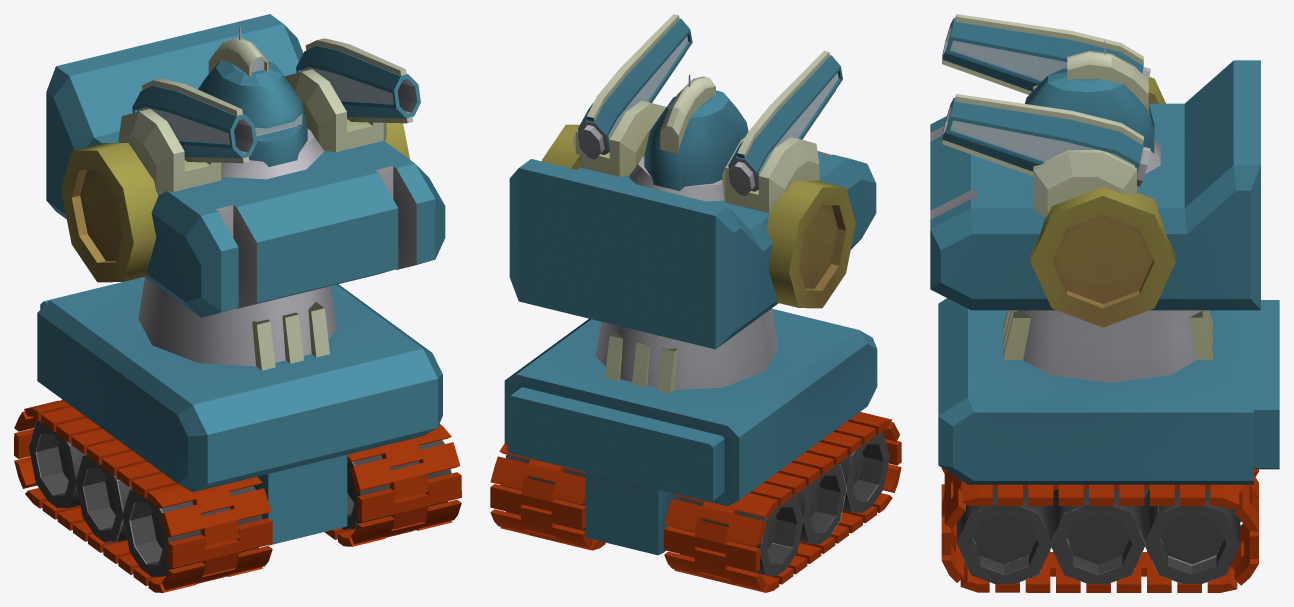
File: player_idle8.obj
The picture shows the model from 3 angles, left to right: view 1: azimuth 30°, elevation 25°; view 2: azimuth 150°, elevation 25°; view 3: azimuth 270°, elevation 25°; orthographic projection. The views are drawn at different scales.
Parts seen in each view (by area): view 1: Object004, Box038, Object012, Object011, Box042; view 2: Object004, Box038, Object012, Object011, Box042; view 3: Object004, Object011, Object012, Box042.
Part boxes in pixels (x1=…): Object004: x1=37, y1=14, x2=445, y2=545; Box038: x1=14, y1=399, x2=272, y2=592; Object012: x1=132, y1=38, x2=420, y2=163; Object011: x1=28, y1=420, x2=451, y2=576; Box042: x1=324, y1=424, x2=461, y2=546; Object004: x1=504, y1=76, x2=877, y2=555; Box038: x1=664, y1=412, x2=901, y2=592; Object012: x1=578, y1=14, x2=842, y2=195; Object011: x1=500, y1=432, x2=889, y2=575; Box042: x1=490, y1=443, x2=605, y2=550; Object004: x1=930, y1=50, x2=1279, y2=521; Object011: x1=956, y1=487, x2=1240, y2=583; Object012: x1=942, y1=14, x2=1150, y2=186; Box042: x1=941, y1=471, x2=1258, y2=592.
Bounding box in the file's own units: 110 × 176 × 115.
3 materials, 1 textured.
